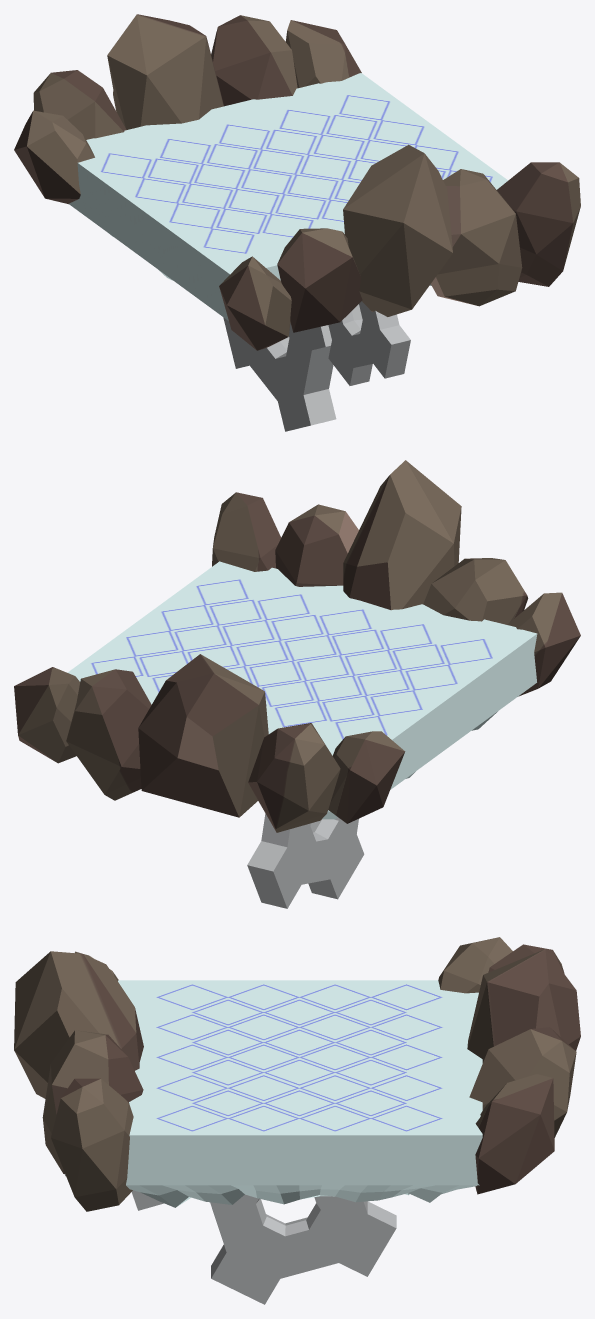
The model's file is SkyIsland.fbx.
The picture shows the model from 3 angles, top to bottom: view 1: azimuth 30°, elevation 25°; view 2: azimuth 150°, elevation 25°; view 3: azimuth 270°, elevation 25°; orthographic projection. The views are drawn at different scales.
Parts seen in each view (by area): view 1: Icosphere.003, Icosphere, Icosphere.006, Icosphere.001, Icosphere.015, Torus.002, Icosphere.002, Icosphere.005, Icosphere.007, Torus.001, Icosphere.009, Icosphere.008 (+1 smaller); view 2: Icosphere.003, Icosphere.006, Icosphere, Icosphere.005, Torus.002, Icosphere.008, Icosphere.001, Icosphere.002, Icosphere.007, Icosphere.004, Icosphere.015, Icosphere.009; view 3: Icosphere.003, Torus.002, Icosphere, Icosphere.015, Icosphere.006, Icosphere.004, Icosphere.005, Icosphere.001, Icosphere.007, Icosphere.008.
Part boxes in pixels (x1,y1,x2,y2): Icosphere.003: (69, 73, 507, 320); Icosphere: (343, 144, 452, 316); Icosphere.006: (107, 14, 223, 129); Icosphere.001: (431, 169, 522, 306); Icosphere.015: (497, 162, 580, 286); Torus.002: (223, 317, 336, 431); Icosphere.002: (277, 228, 362, 332); Icosphere.005: (211, 15, 297, 106); Icosphere.007: (14, 110, 94, 204); Torus.001: (328, 301, 410, 385); Icosphere.009: (219, 256, 291, 350); Icosphere.008: (33, 70, 126, 139); Icosphere.003: (67, 561, 537, 819); Icosphere.006: (138, 654, 268, 817); Icosphere: (343, 460, 461, 610); Icosphere.005: (66, 669, 151, 800); Torus.002: (247, 813, 364, 908); Icosphere.008: (248, 723, 340, 832); Icosphere.001: (275, 504, 358, 586); Icosphere.002: (423, 558, 528, 624); Icosphere.007: (328, 731, 405, 823); Icosphere.004: (14, 667, 80, 763); Icosphere.015: (212, 492, 281, 571); Icosphere.009: (507, 592, 580, 696); Icosphere.003: (118, 980, 482, 1207); Torus.002: (210, 1194, 396, 1304); Icosphere: (14, 951, 143, 1098); Icosphere.015: (51, 1078, 133, 1211); Icosphere.006: (467, 949, 580, 1062); Icosphere.004: (475, 1074, 554, 1194); Icosphere.005: (469, 1027, 576, 1137); Icosphere.001: (42, 1030, 143, 1173); Icosphere.007: (438, 937, 512, 993); Icosphere.008: (488, 944, 564, 973).
Bounding box in the file's own units: 2426 × 2158 × 3086.
